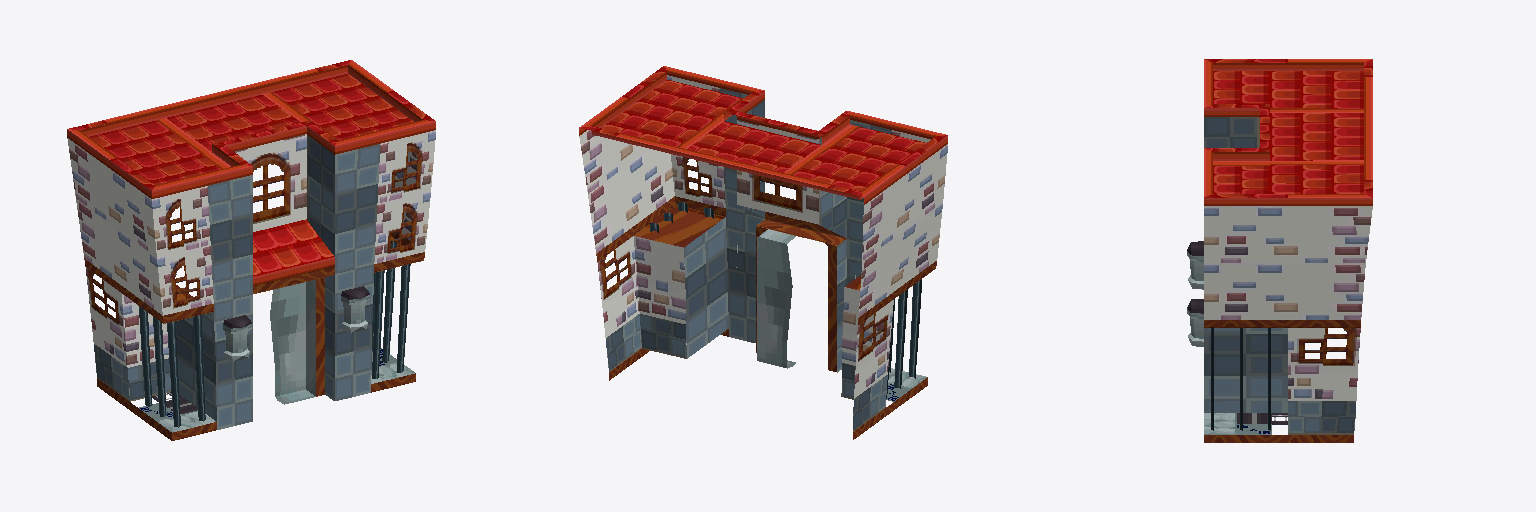
3 views of the same model, side by side, from view 1: azimuth 30°, elevation 25°; view 2: azimuth 150°, elevation 25°; view 3: azimuth 270°, elevation 25° (orthographic).
Parts seen in each view (by area): view 1: vsn_mesh_0__mesh_0_.004, vsn_mesh_1__mesh_1_.004, vsn_mesh_2__mesh_2_.004; view 2: vsn_mesh_0__mesh_0_.004, vsn_mesh_1__mesh_1_.004; view 3: vsn_mesh_0__mesh_0_.004, vsn_mesh_1__mesh_1_.004, vsn_mesh_2__mesh_2_.004.
Boxes of the visible parts, x1=… form: vsn_mesh_0__mesh_0_.004: x1=67, y1=130, x2=435, y2=440; vsn_mesh_1__mesh_1_.004: x1=67, y1=60, x2=435, y2=427; vsn_mesh_2__mesh_2_.004: x1=223, y1=286, x2=369, y2=361; vsn_mesh_0__mesh_0_.004: x1=579, y1=75, x2=947, y2=439; vsn_mesh_1__mesh_1_.004: x1=579, y1=66, x2=947, y2=398; vsn_mesh_0__mesh_0_.004: x1=1204, y1=117, x2=1372, y2=442; vsn_mesh_1__mesh_1_.004: x1=1204, y1=59, x2=1372, y2=430; vsn_mesh_2__mesh_2_.004: x1=1187, y1=241, x2=1203, y2=346.
Bounding box in the file's own units: 1.4 × 1.2 × 0.7917.
3 materials, 2 textured.